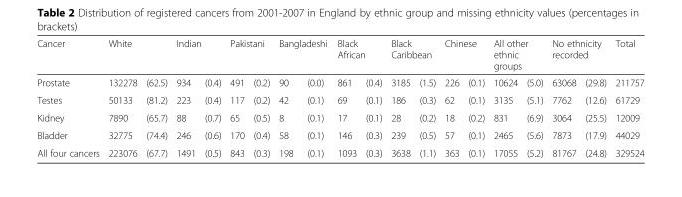table: (36, 37, 643, 158)
table column: (36, 37, 103, 158), (103, 37, 141, 158), (488, 37, 521, 158), (546, 37, 579, 158), (610, 37, 643, 158), (299, 37, 331, 158), (579, 37, 610, 158), (141, 37, 171, 158), (331, 37, 360, 158), (385, 37, 414, 158), (171, 37, 199, 158), (273, 37, 299, 158), (462, 37, 488, 158), (199, 37, 224, 158), (248, 37, 273, 158), (360, 37, 385, 158), (414, 37, 439, 158), (521, 37, 546, 158), (224, 37, 248, 158), (439, 37, 462, 158)
table column header: (36, 37, 643, 90)
table row: (36, 37, 643, 73), (36, 90, 643, 108), (36, 108, 643, 126), (36, 73, 643, 90), (36, 126, 643, 143), (36, 143, 643, 158)
table spanning cell: (36, 37, 103, 90), (103, 37, 171, 73), (546, 37, 610, 73), (273, 37, 331, 73), (488, 37, 546, 73), (331, 37, 385, 73), (385, 37, 439, 73), (171, 37, 224, 73), (224, 37, 273, 73), (439, 37, 488, 73), (610, 37, 643, 90)
